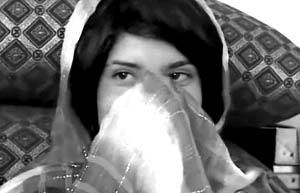face: (98, 37, 205, 145)
